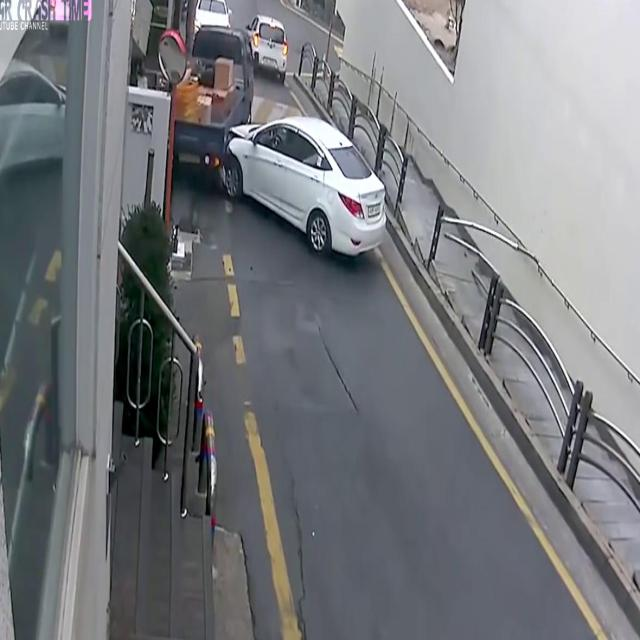accident: (157, 27, 397, 273)
